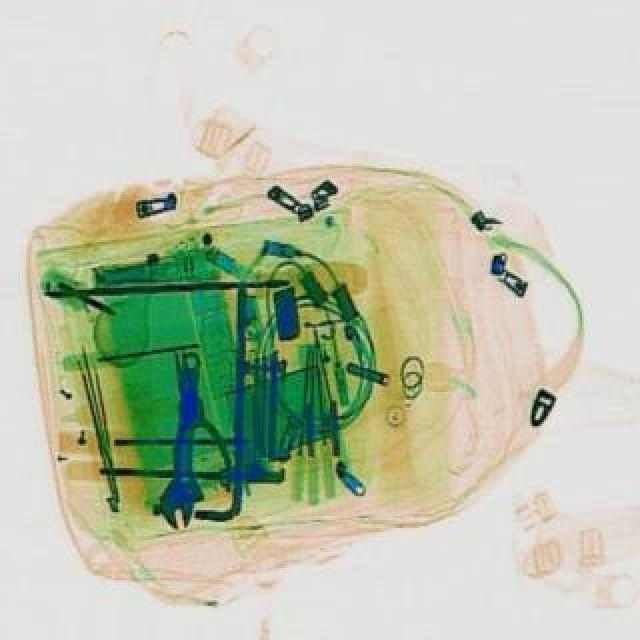scissors: (162, 348, 214, 528)
